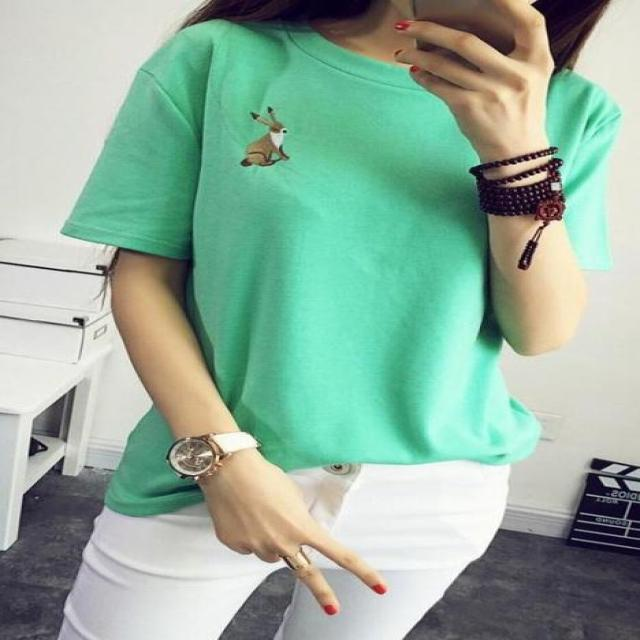short sleeve top: (63, 16, 614, 505)
trousers: (60, 408, 509, 638)
